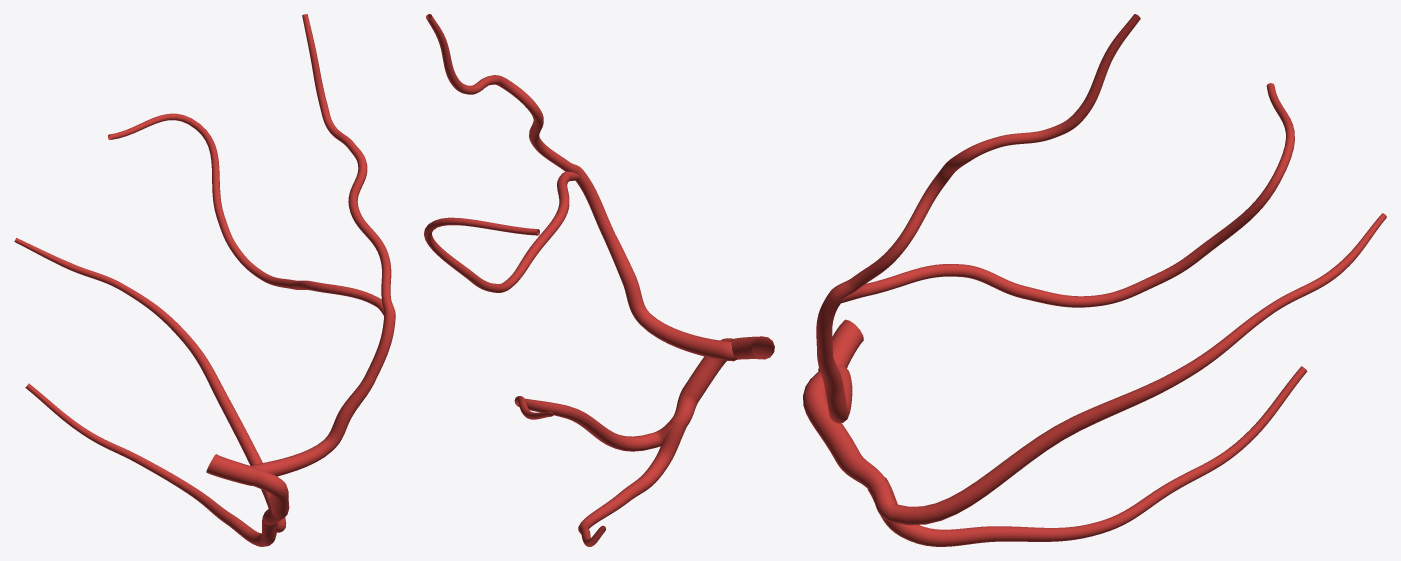
The picture shows the model from 3 angles, left to right: view 1: azimuth 30°, elevation 25°; view 2: azimuth 150°, elevation 25°; view 3: azimuth 270°, elevation 25°; orthographic projection. The views are drawn at different scales.
Visible parts, largest first — view 1: 左侧颞前支; view 2: 左侧颞前支; view 3: 左侧颞前支.
Boxes of the visible parts, left/top/right/bottom form: 左侧颞前支: left=14, top=14, right=395, bottom=546; 左侧颞前支: left=424, top=14, right=774, bottom=546; 左侧颞前支: left=803, top=14, right=1386, bottom=546.
Bounding box in the file's own units: 0.0324 × 0.0624 × 0.0538.
